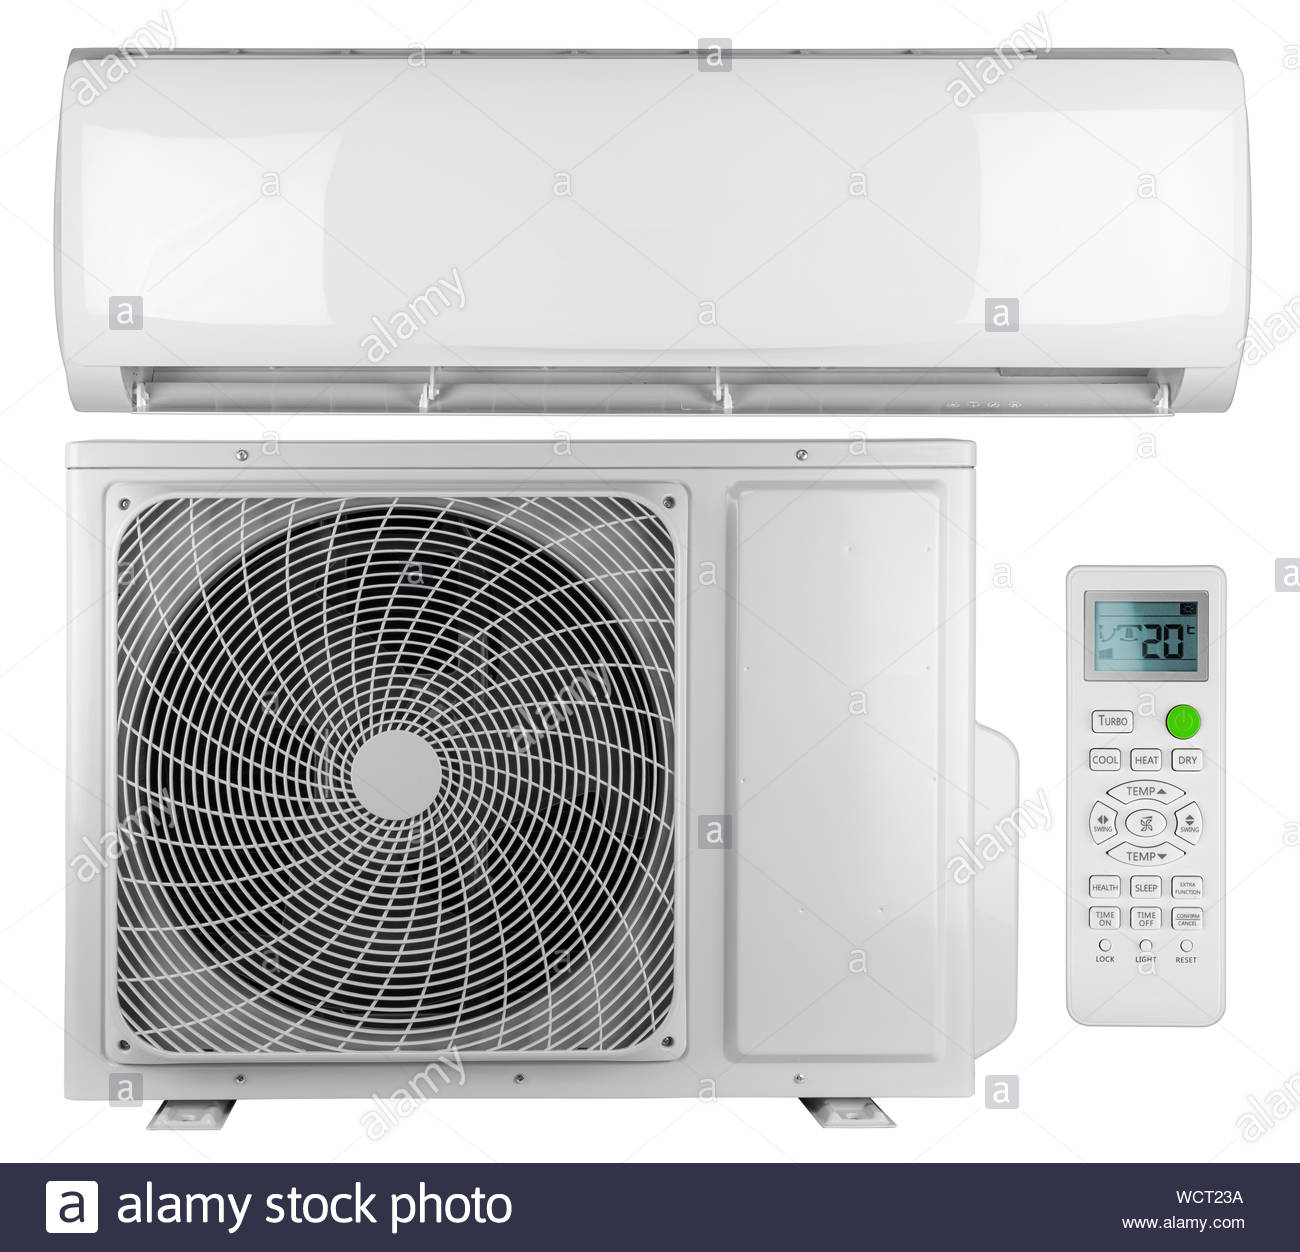ac: (46, 31, 1251, 437)
